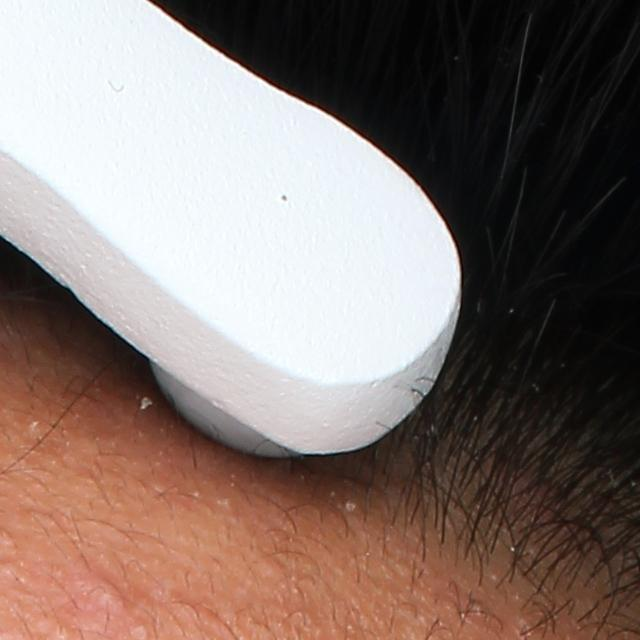papule: (88, 574, 135, 614)
